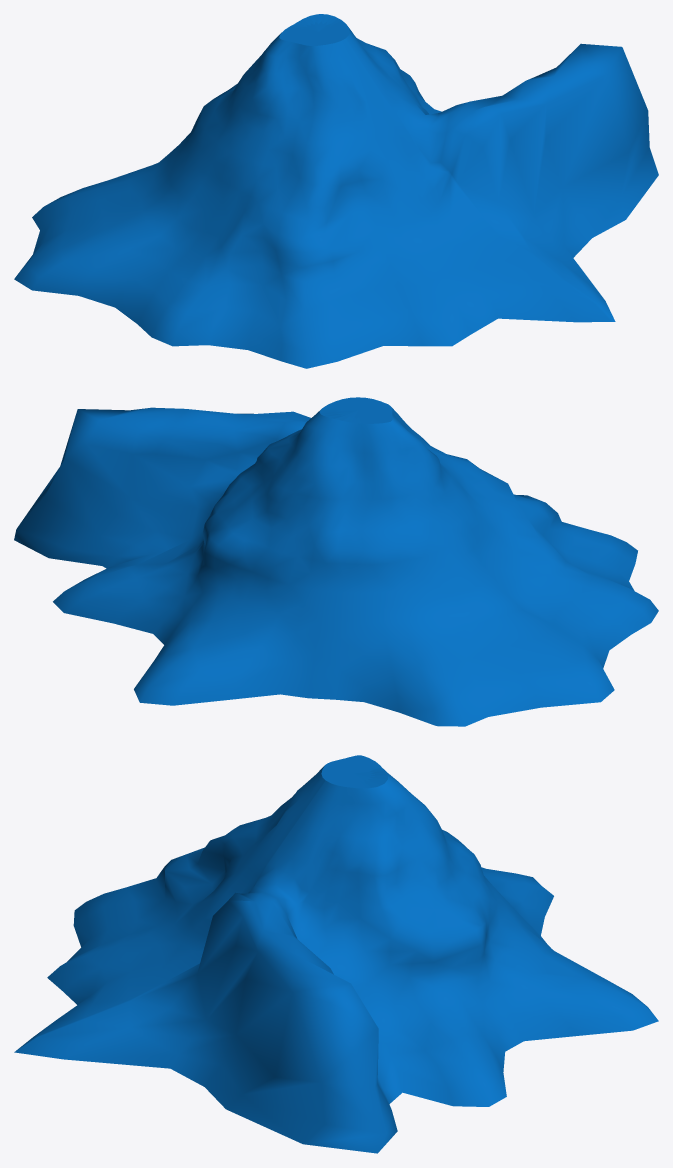
Rendered from Mountain.FBX.
The picture shows the model from 3 angles, top to bottom: view 1: azimuth 30°, elevation 25°; view 2: azimuth 150°, elevation 25°; view 3: azimuth 270°, elevation 25°; orthographic projection. The views are drawn at different scales.
Parts seen in each view (by area): view 1: Mountain001; view 2: Mountain001; view 3: Mountain001.
Part boxes in pixels (<box>): Mountain001: <box>14,14,658,368</box>; Mountain001: <box>14,397,658,726</box>; Mountain001: <box>14,755,658,1153</box>.
Size of the model in its own units: 15407 by 4969 by 13629.
